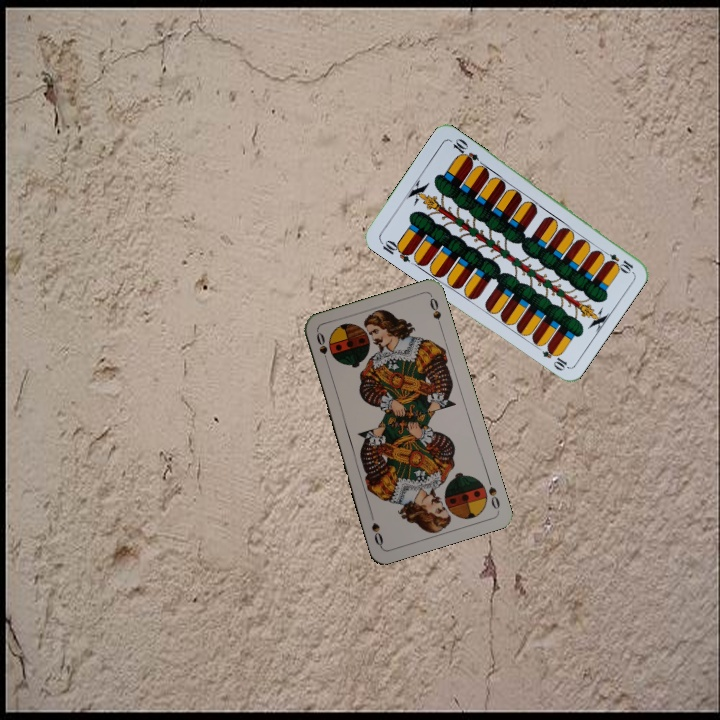E10: (376, 236, 415, 265), (598, 246, 636, 275)
SO: (312, 328, 331, 368), (483, 473, 502, 512)
